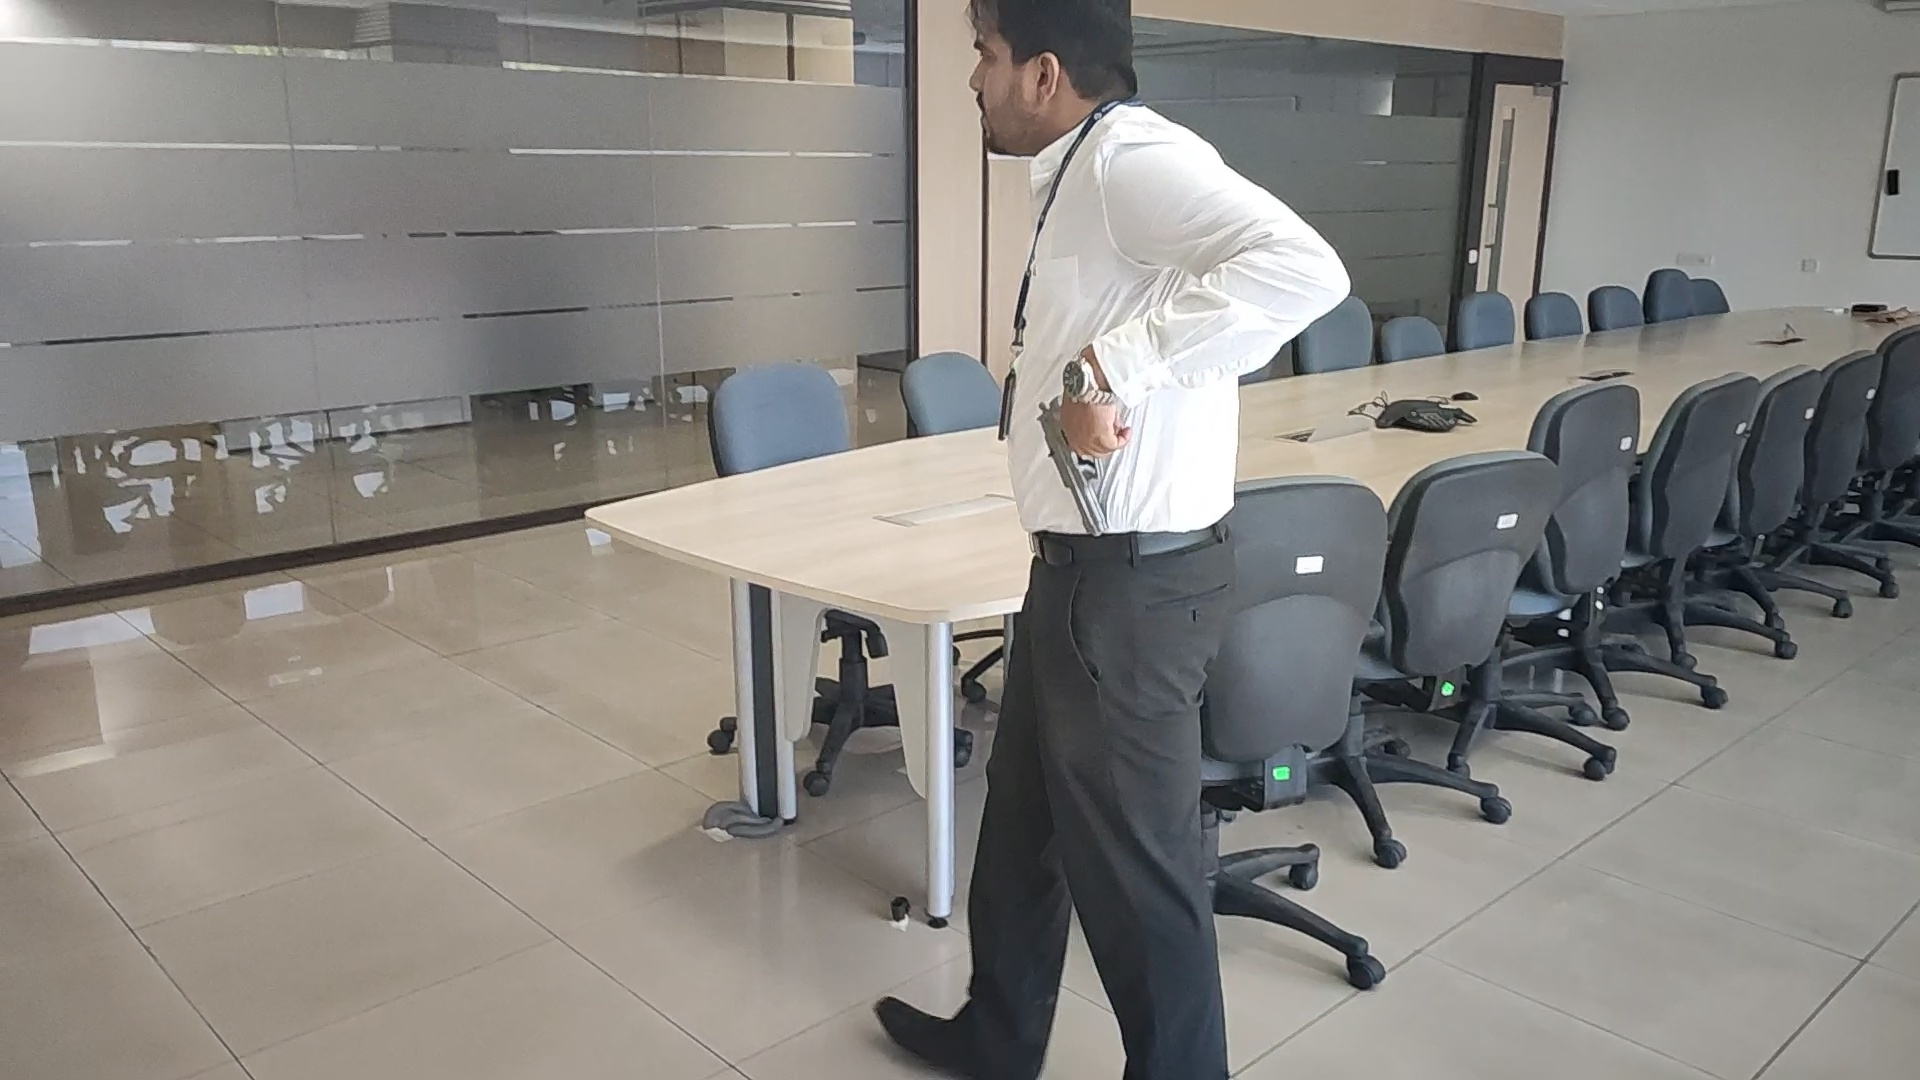gun: (1031, 410, 1106, 541)
